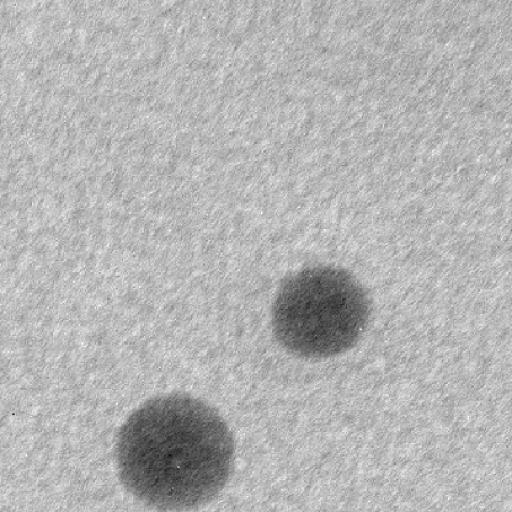Nanoparticles: (115, 386, 235, 512), (265, 260, 374, 364)
